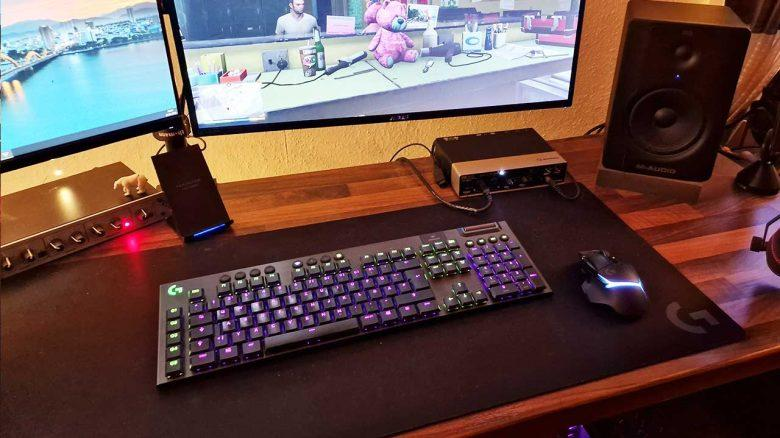keyboard: (154, 219, 554, 387)
